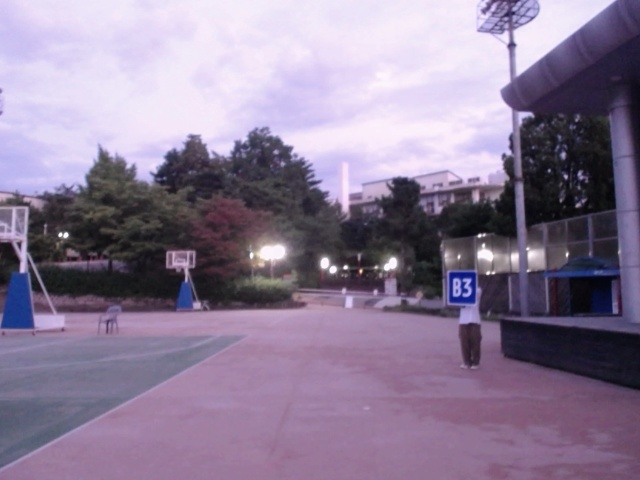delivery_b3: (447, 269, 477, 306)
